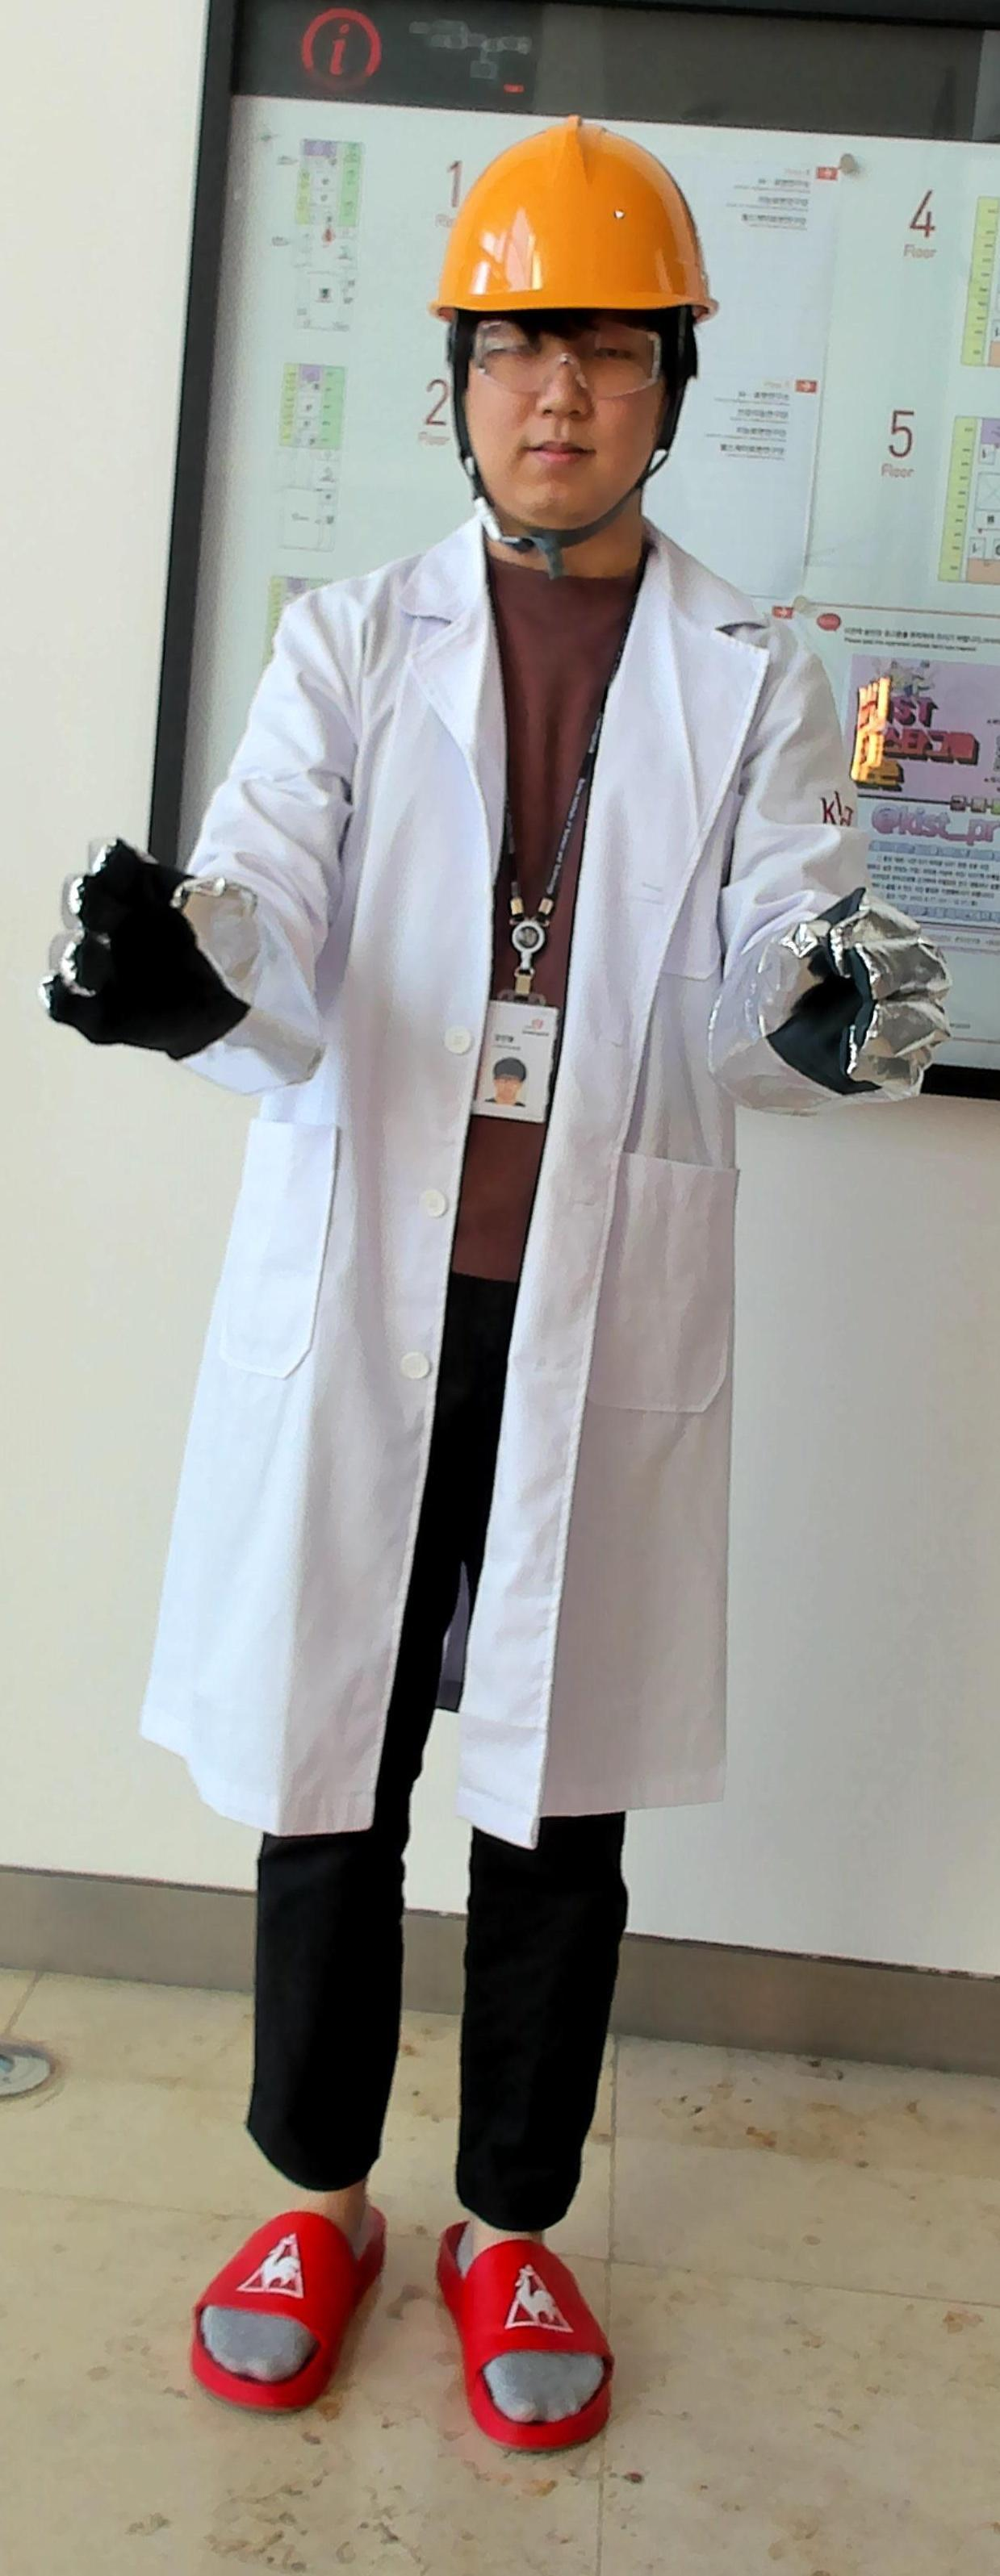lab_coat: (257, 623, 735, 1810)
